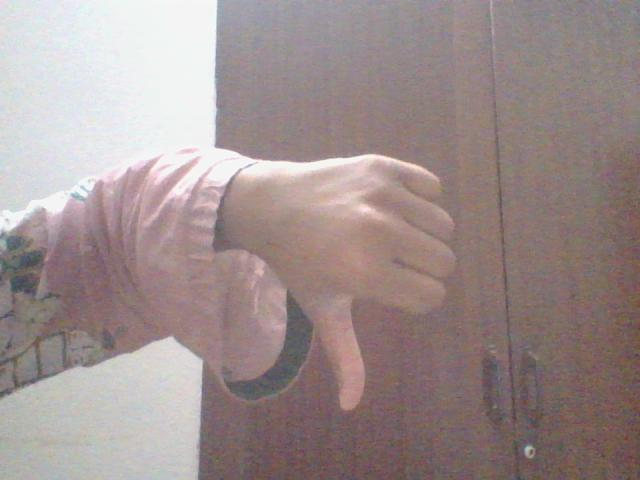thumbs-down: (285, 149, 464, 427)
